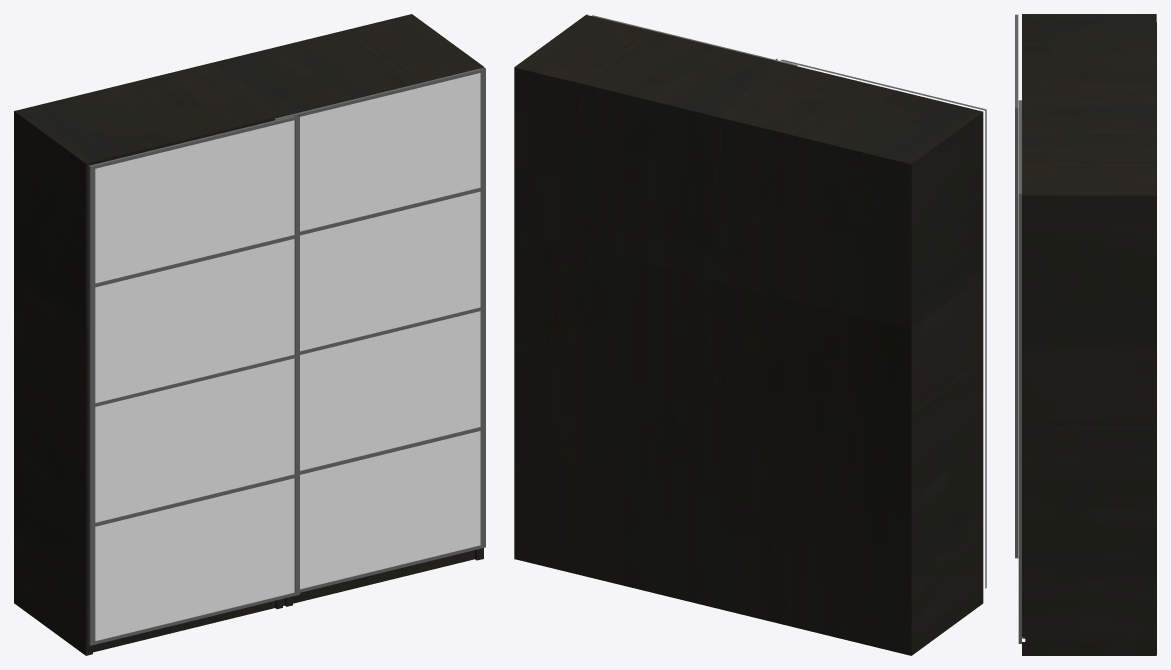
File: b0-wardrobewithslidingdoors.glb
3 renders of one model, left to right at view 1: azimuth 30°, elevation 25°; view 2: azimuth 150°, elevation 25°; view 3: azimuth 270°, elevation 25°, orthographic. The views are drawn at different scales.
Visible parts, largest first — view 1: Door.001_Plane.006, Door.000_Plane.003, Box_Plane; view 2: Box_Plane, Door.001_Plane.006; view 3: Box_Plane, Door.001_Plane.006, Door.000_Plane.003.
Boxes of the visible parts, x1=… form: Door.001_Plane.006: x1=88, y1=114, x2=299, y2=645; Door.000_Plane.003: x1=274, y1=67, x2=485, y2=592; Box_Plane: x1=14, y1=14, x2=483, y2=655; Box_Plane: x1=514, y1=15, x2=983, y2=655; Door.001_Plane.006: x1=775, y1=58, x2=986, y2=588; Box_Plane: x1=1022, y1=14, x2=1156, y2=655; Door.001_Plane.006: x1=1015, y1=14, x2=1018, y2=558; Door.000_Plane.003: x1=1018, y1=100, x2=1021, y2=643.
Size of the model in its own units: 2 by 2.36 by 0.6601.
Materials: 3 (1 with a texture image).
